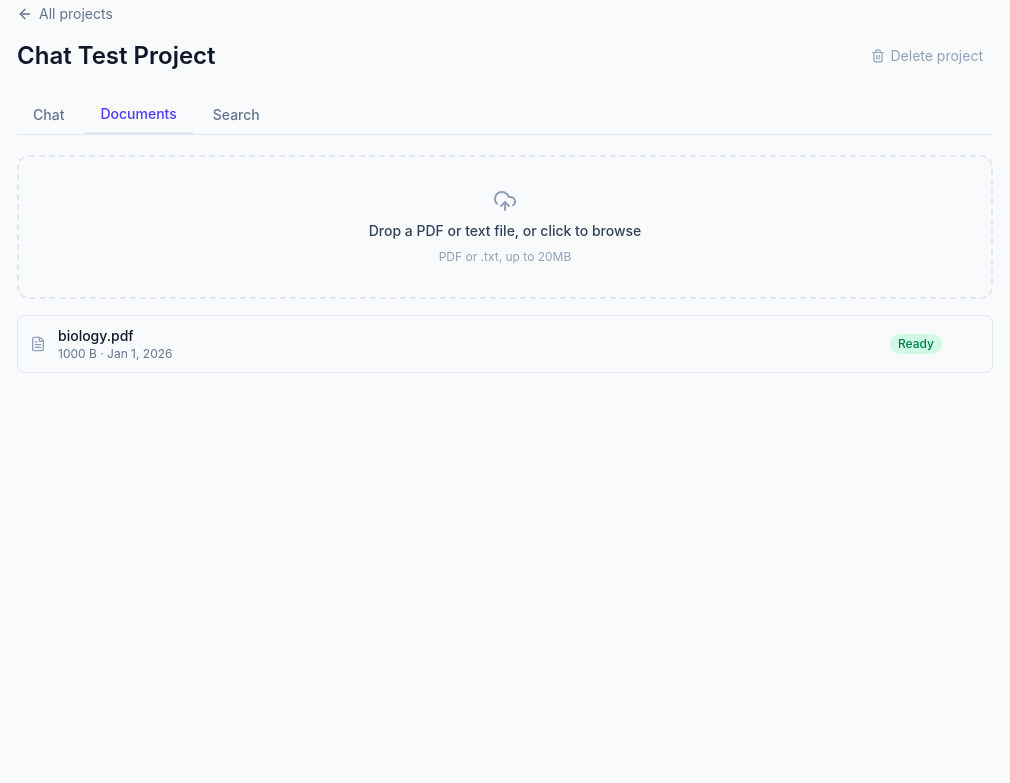
Scenario: Project chat flow › sends a message and displays the assistant's reply with citations
Expected: the heading "Chat Test Project" is shown, [17,40,216,72]
Click the button "Chat" at (49, 115), box [17,96,80,134]
(page scrolled)
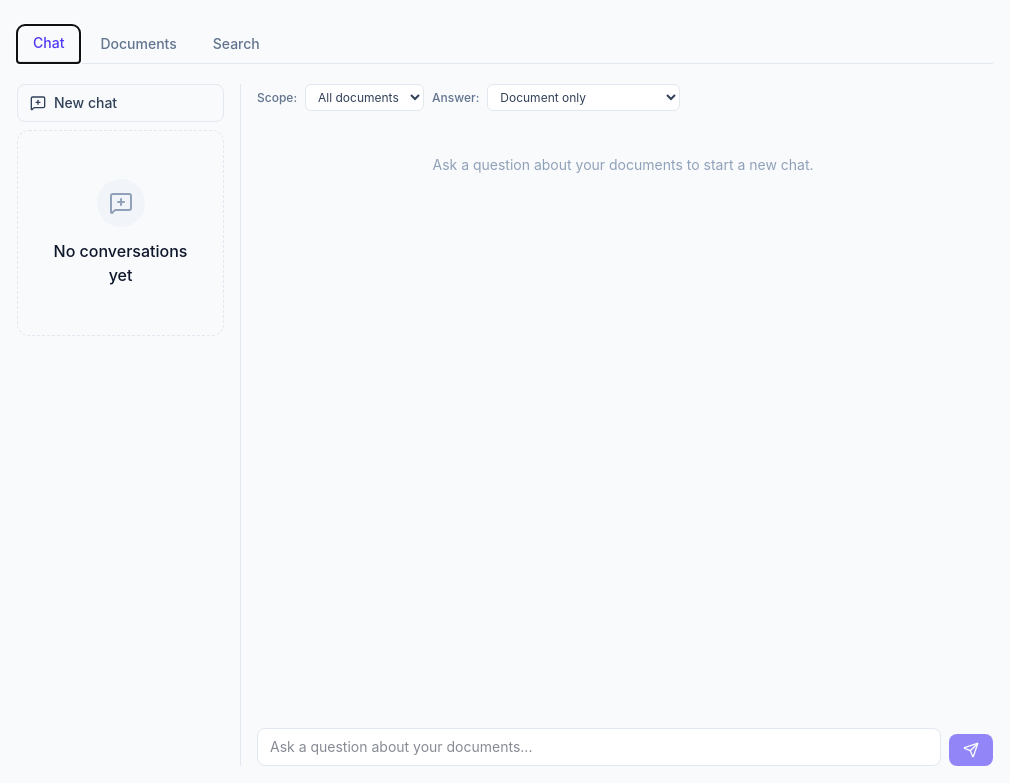
Type "What does the mitochondria do?" into the text box with placeholder "Ask a question about your documents..." at (599, 747), box [257,728,941,766]
Then press Enter
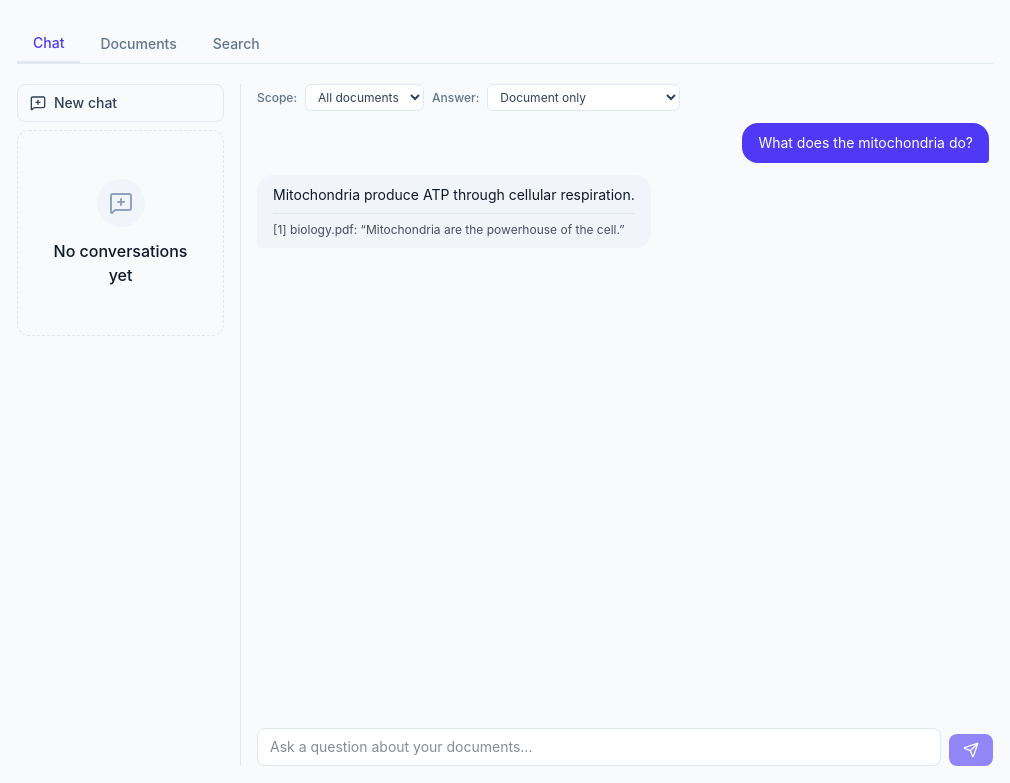
Now the text "Mitochondria produce ATP through cellular respiration." is shown, box [273,185,635,205]
Now the text "[1] biology.pdf" is shown, box [273,222,635,238]
